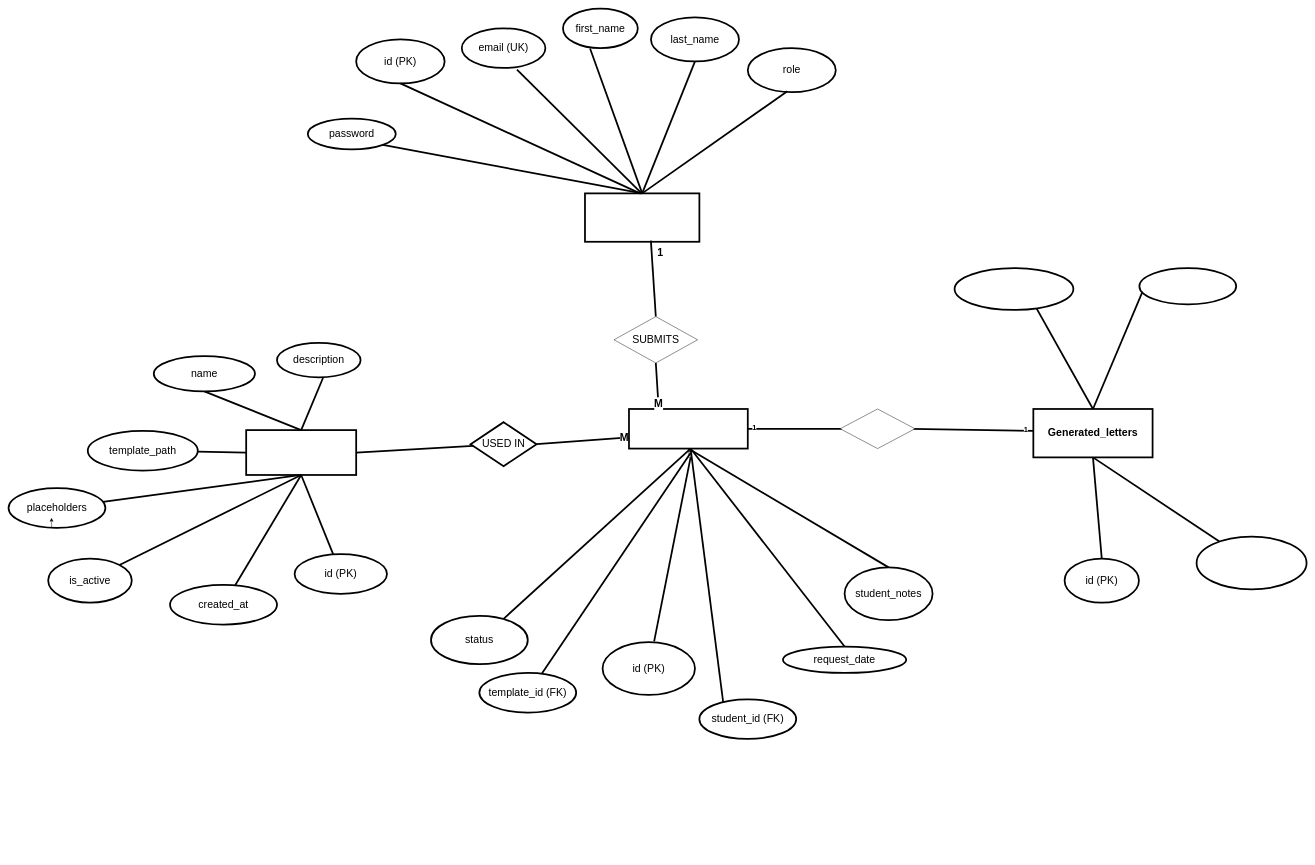
Image size: 1315x865. Some labels were removed from this diagram. The shapes that lost their labels are listed below. From the top down, each one's centre as x and y in pixels, then its label:
At (642,217): "USER".
At (1013,289): "verification_code (UK)".
At (1187,286): "download_count".
At (688,428): "LETTER_REQUEST".
At (877,429): "RESULTS IN".
At (301,452): "LETTER_TEMPLATE".
At (1251,562): "request_id (FK, UK)".
